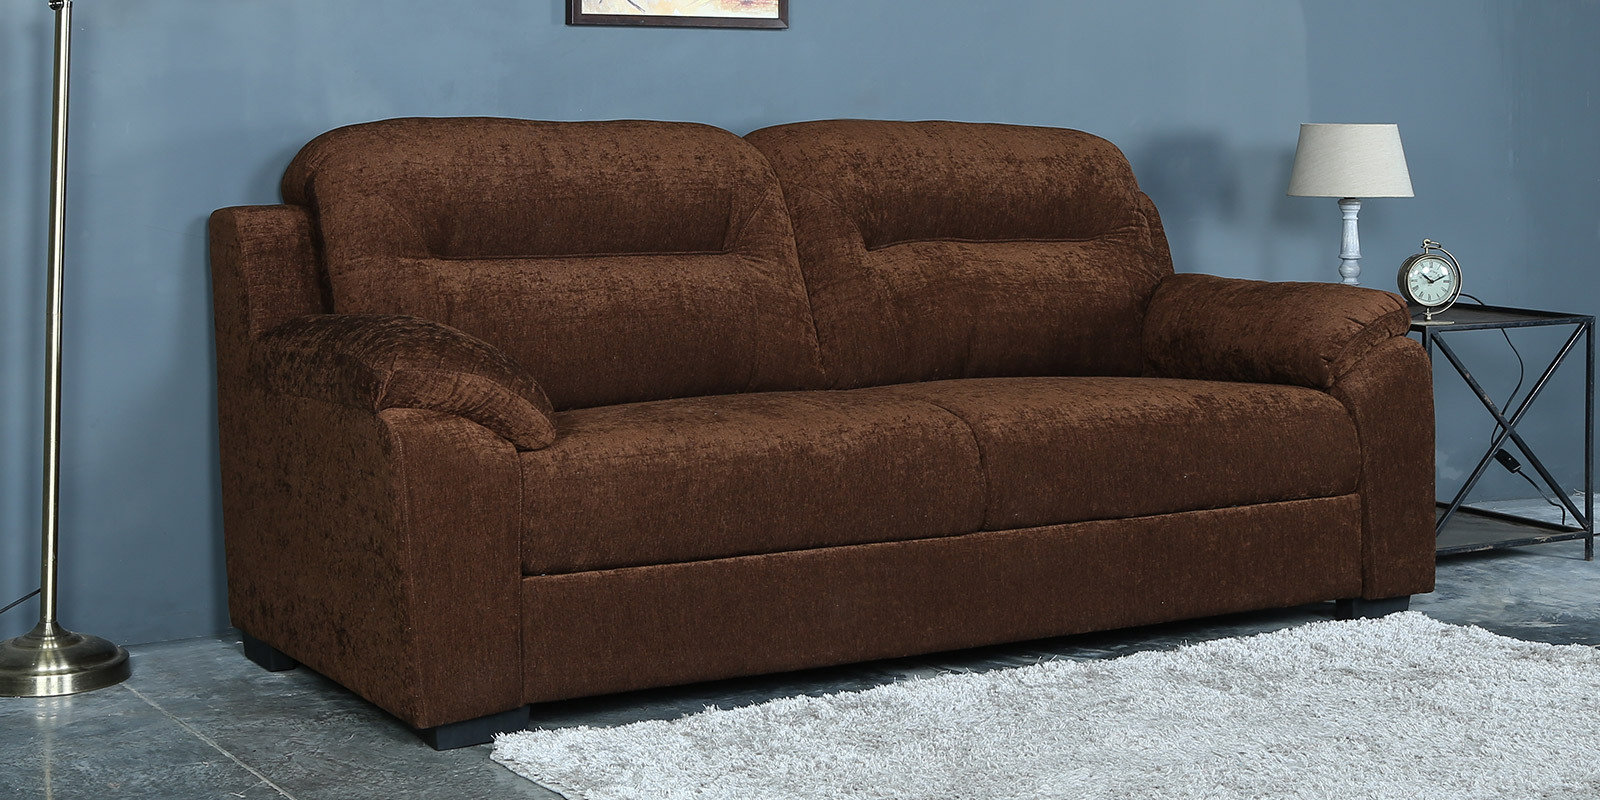Poland Three Seater Sofa in Chocolate Brown Colour by Furniture Mind: (205, 114, 1441, 752)
